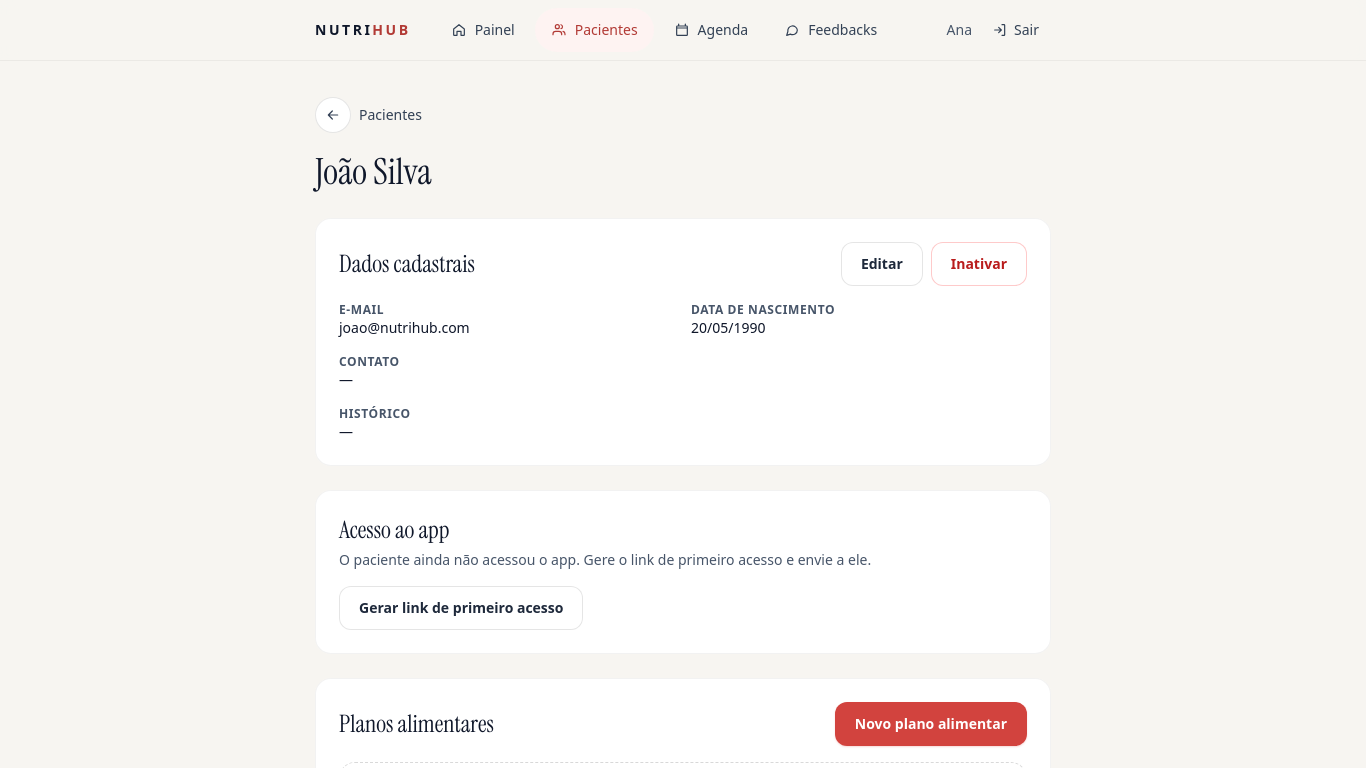
Test: DetalheDoPaciente (RF-03, RF-02, RF-04) › inativa após confirmação e esconde as ações que não valem para inativos
The image size is (1366, 768).
Click the button "Inativar".
click(979, 264)  # box [931,242,1027,286]
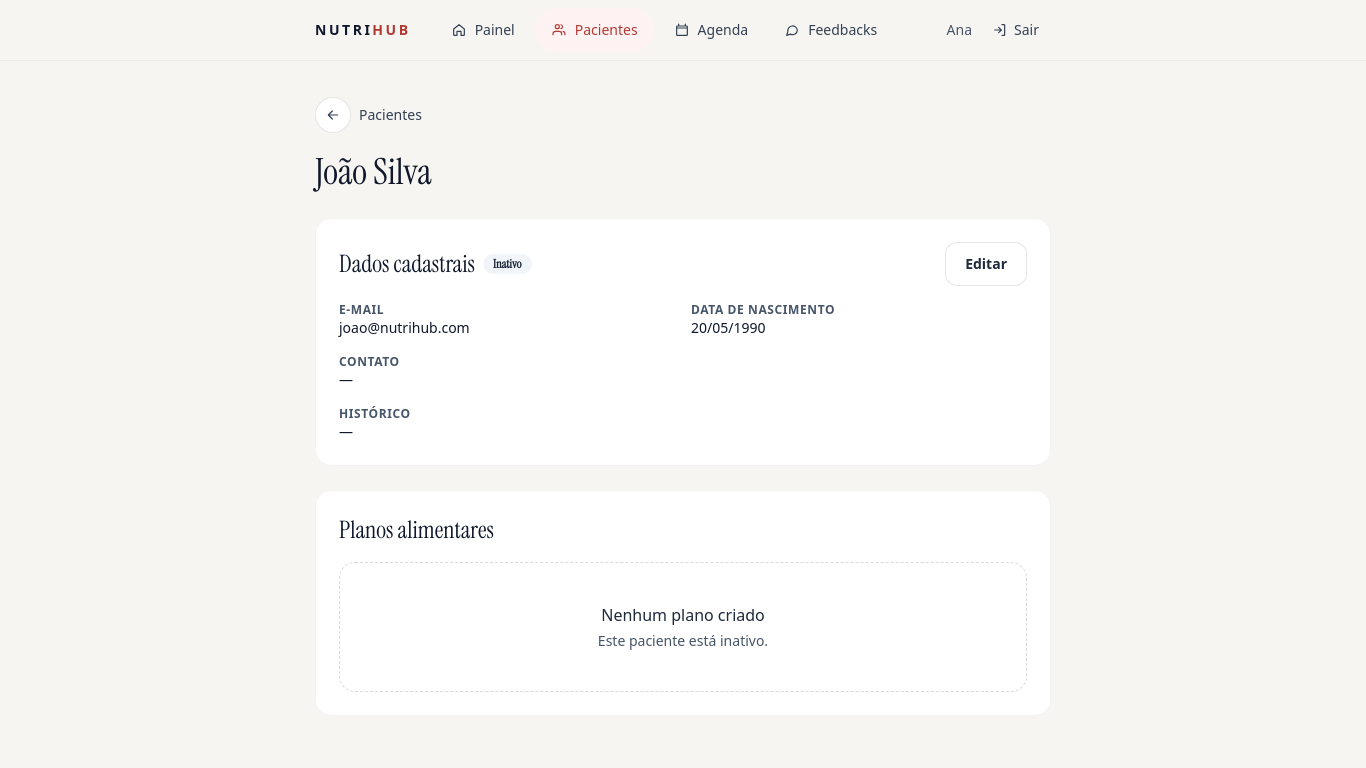
Check: the text "Inativo" is shown, box [483,254,532,274]
Check: the button "Novo plano alimentar" is gone
Check: the heading "Acesso ao app" is gone
